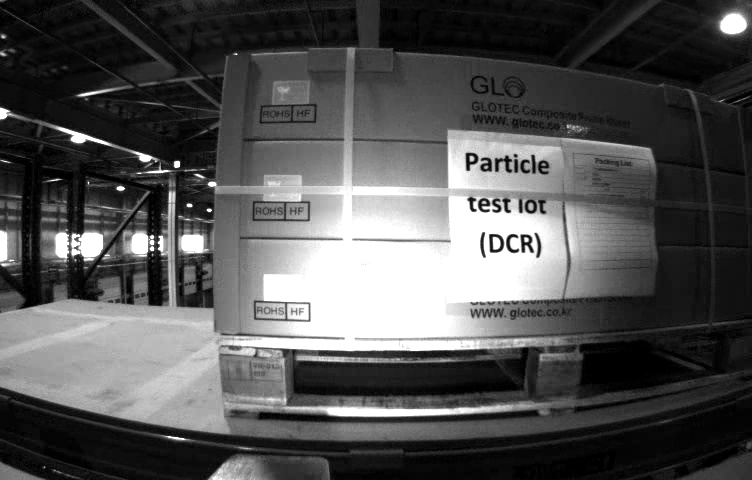True Barcode: (364, 260, 445, 313)
